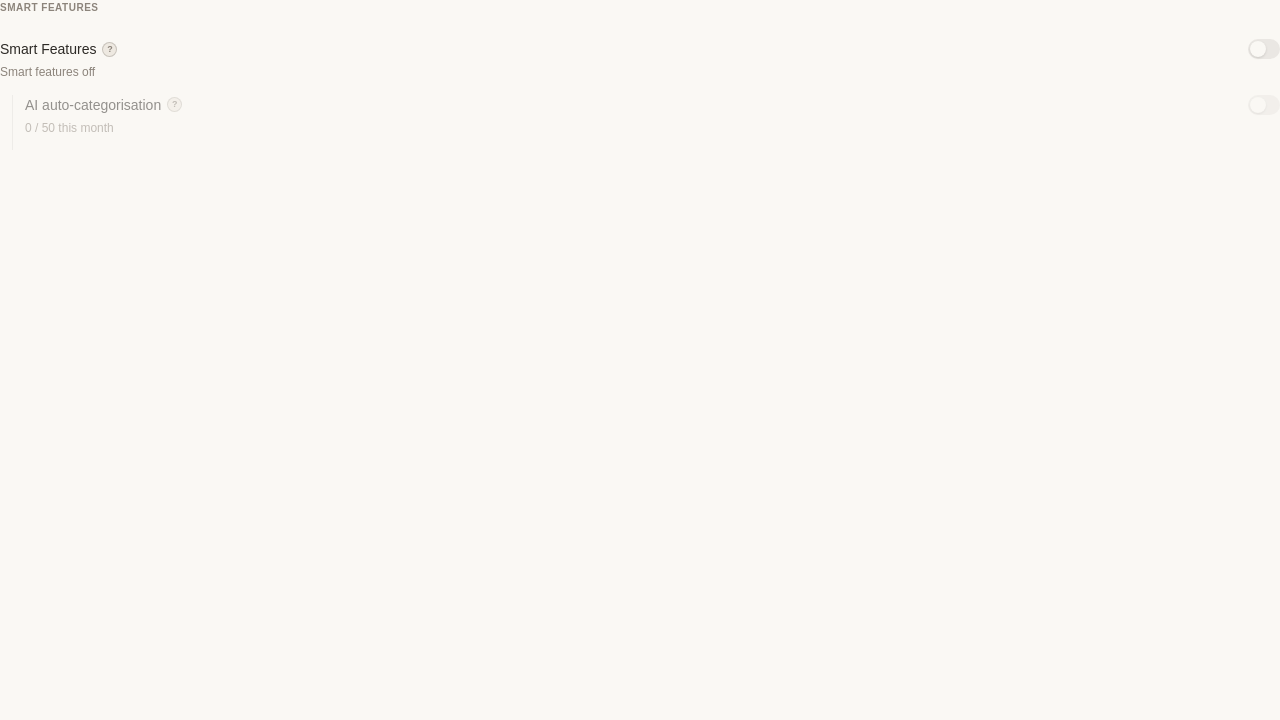
Scenario: AdvancedSection › Enable button is disabled while the enable+backfill requests are in flight
Click the switch with test id "vision-switch" at (1264, 49), box [1248,39,1279,59]
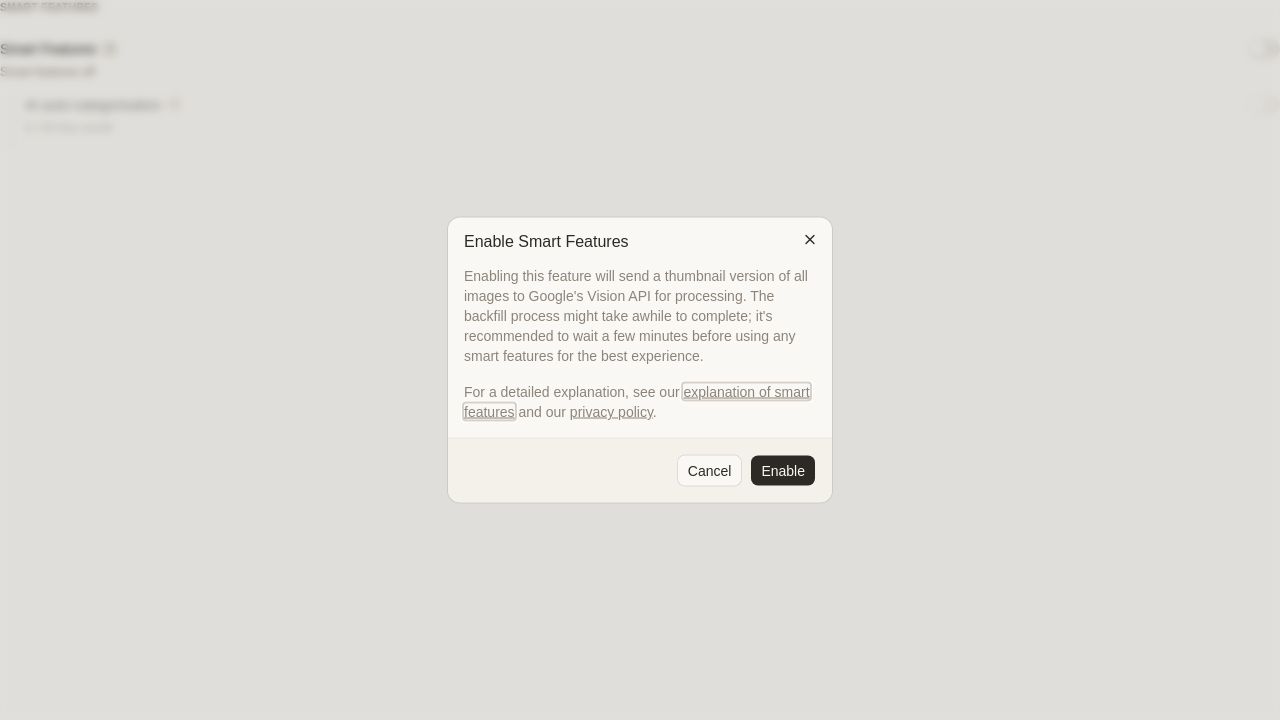
Click the button "Enable" at (783, 470), box [750,454,816,486]
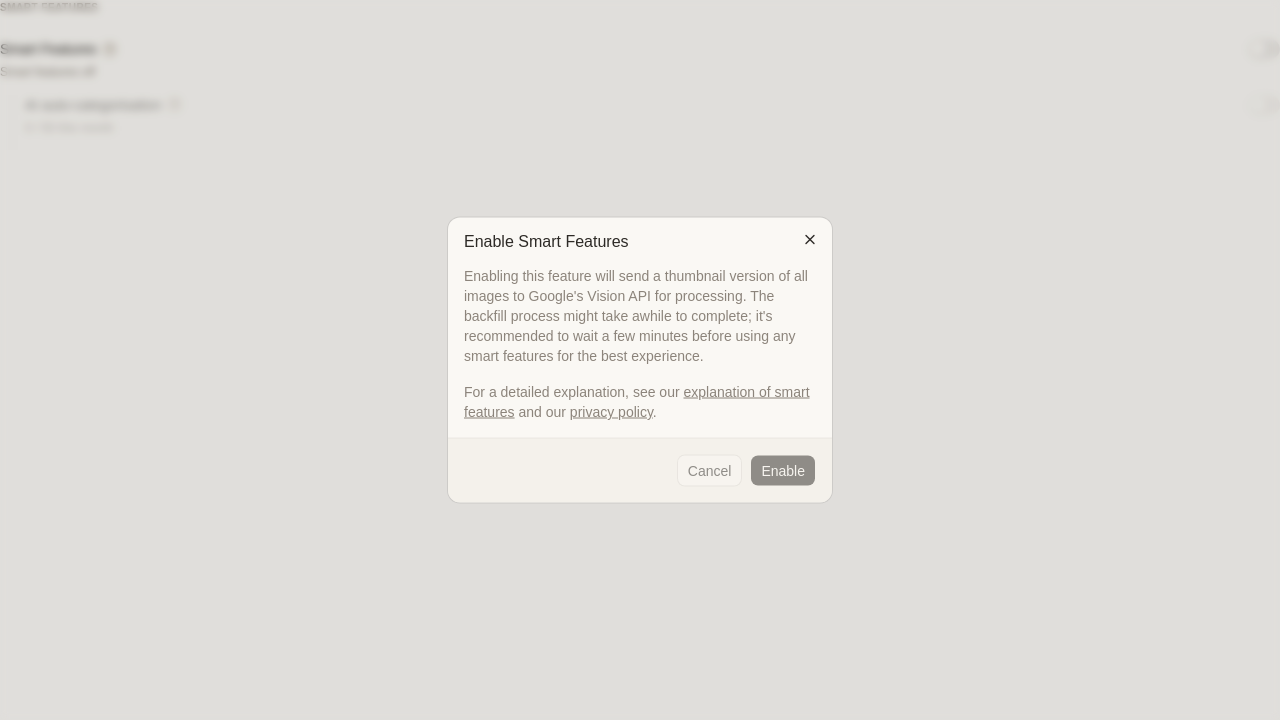
Result: the button "Enable" is disabled at [750,454,816,486]
